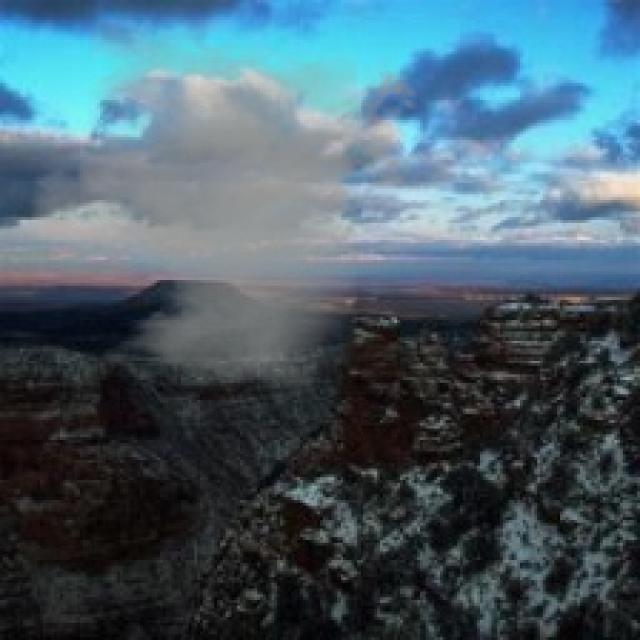smoke: (14, 20, 432, 391)
